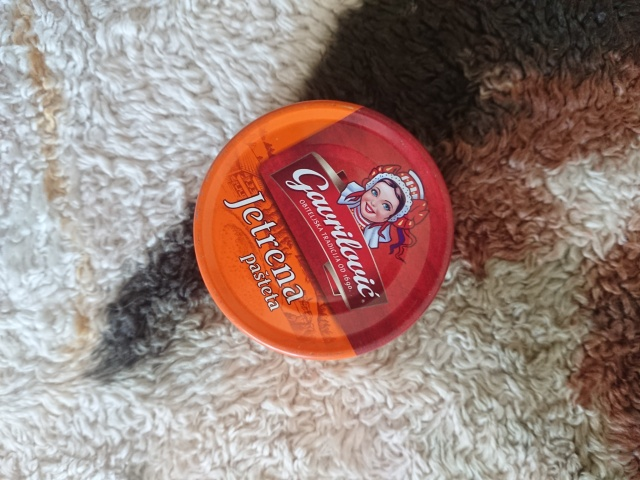Gavrilovic Pork Liver Pate 100g: (188, 96, 460, 363)
